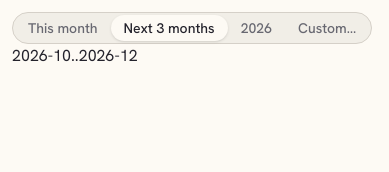
MonthRangeSelect › selects this month and the current year from their presets
Click the tab "This month". click: (63, 28)
box: [15,15,111,41]
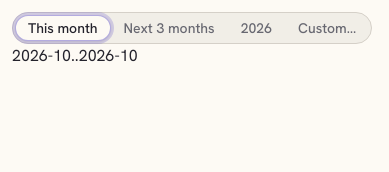
Now the text with test id "range" reads "2026-10..2026-10", box [12,45,138,66]
Click the tab "2026". click: (256, 28)
box: [228,15,285,41]
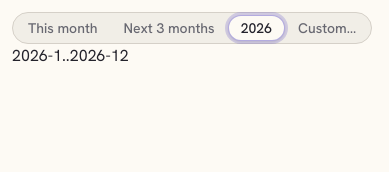
Now the text with test id "range" reads "2026-1..2026-12", box [12,45,129,66]
Click the tab "Next 3 months". click: (169, 28)
box: [111,15,228,41]
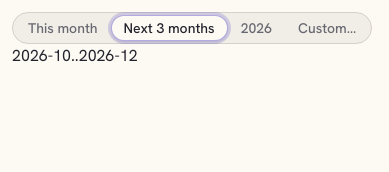
Now the text with test id "range" reads "2026-10..2026-12", box [12,45,138,66]
